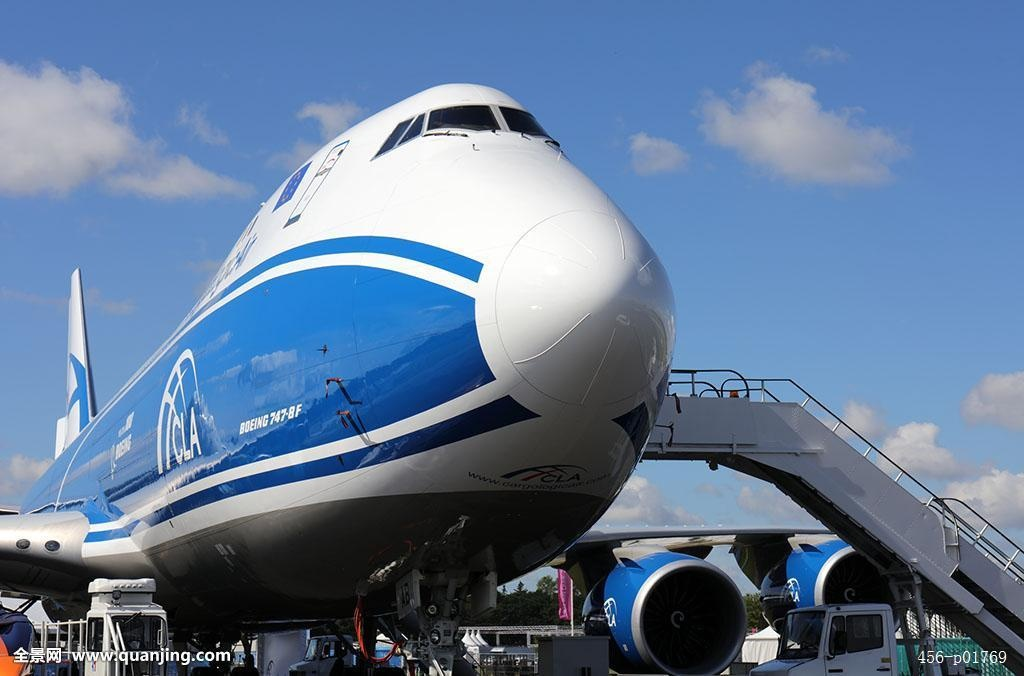airplane: (1, 80, 677, 637)
